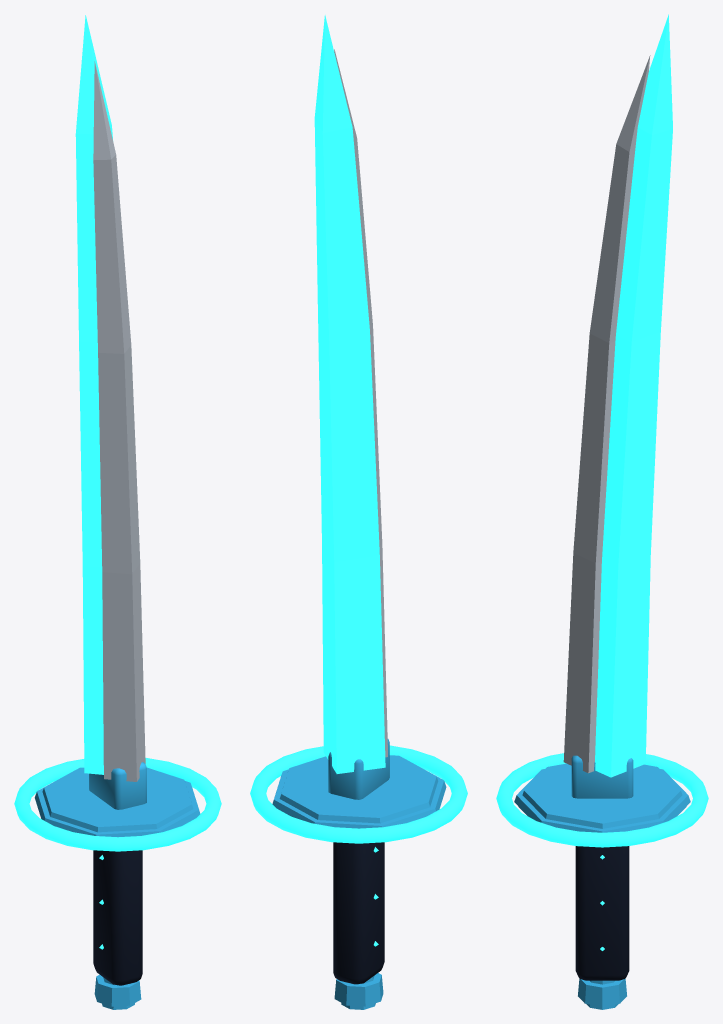
File: weapon_storm_katana.glb
3 views of the same model, side by side, from view 1: azimuth 30°, elevation 25°; view 2: azimuth 150°, elevation 25°; view 3: azimuth 270°, elevation 25° (orthographic). The views are drawn at different scales.
Parts seen in each view (by area): view 1: KatanaSteelSpine, KatanaPlasmaEdge, TsubaGuard, TsukaGrip, TsubaHalo, HabakiCollar, KashiraCap; view 2: KatanaPlasmaEdge, TsubaGuard, TsukaGrip, TsubaHalo, KatanaSteelSpine, HabakiCollar, KashiraCap; view 3: KatanaPlasmaEdge, KatanaSteelSpine, TsubaGuard, TsukaGrip, TsubaHalo, HabakiCollar, KashiraCap.
Boxes of the visible parts, x1,y1,x2,y2 form: KatanaSteelSpine: [93, 61, 145, 781]; KatanaPlasmaEdge: [75, 15, 112, 774]; TsubaGuard: [34, 767, 200, 837]; TsukaGrip: [93, 850, 142, 985]; TsubaHalo: [14, 757, 221, 851]; HabakiCollar: [89, 762, 146, 809]; KashiraCap: [94, 974, 141, 1009]; KatanaPlasmaEdge: [314, 15, 385, 773]; TsubaGuard: [272, 755, 446, 828]; TsukaGrip: [333, 842, 384, 984]; TsubaHalo: [250, 745, 467, 843]; KatanaSteelSpine: [334, 49, 387, 757]; HabakiCollar: [328, 739, 389, 799]; KashiraCap: [334, 973, 383, 1009]; KatanaPlasmaEdge: [595, 14, 672, 777]; KatanaSteelSpine: [563, 55, 650, 773]; TsubaGuard: [514, 763, 690, 832]; TsukaGrip: [575, 846, 629, 980]; TsubaHalo: [496, 753, 708, 847]; HabakiCollar: [571, 755, 633, 798]; KashiraCap: [578, 978, 626, 1009].
Size of the model in its own units: 0.378 by 1.94 by 0.378.
